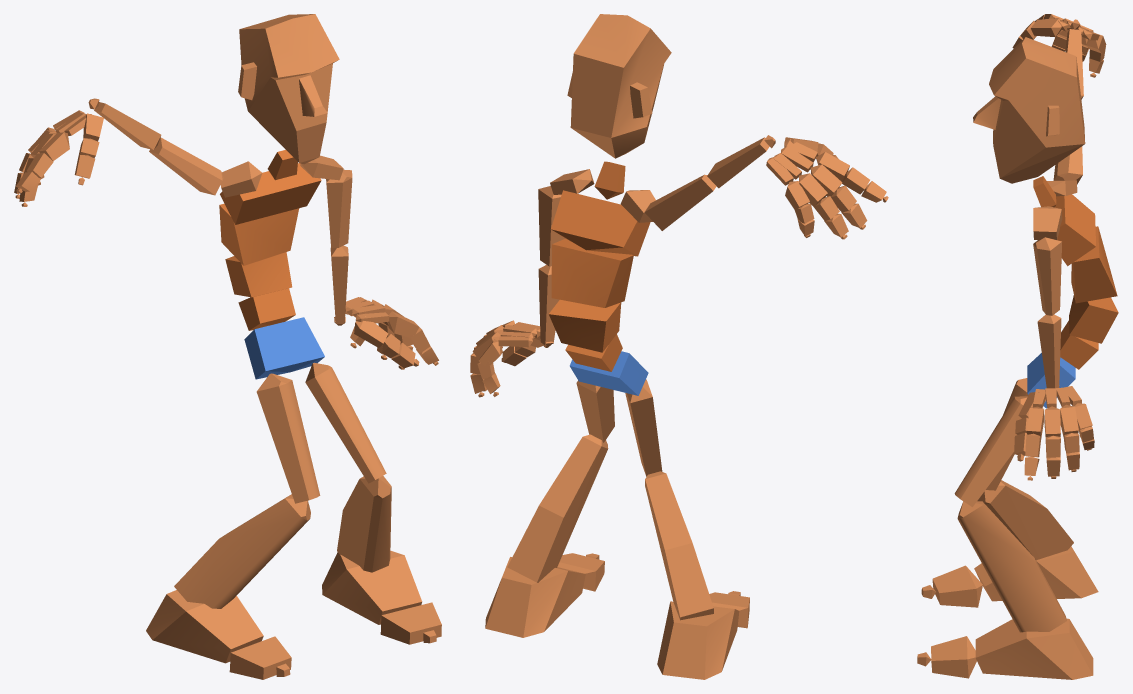
3 renders of one model, left to right at view 1: azimuth 30°, elevation 25°; view 2: azimuth 150°, elevation 25°; view 3: azimuth 270°, elevation 25°, orthographic. The views are drawn at different scales.
Parts seen in each view (by area): view 1: BOPED_Head, BOPED_R_leg, BOPED_R_foot, BOPED_R_foot01, BOPED_R_legup, BOPED_L_leg, Bone01, BOPED_L_legup, Bone04, Bone05, Bone03, BOPED_R_arm_upper (+9 smaller); view 2: BOPED_Head, BOPED_L_leg, BOPED_R_foot01, BOPED_R_leg, BOPED_R_foot, Bone04, Bone05, Bone03, BOPED_R_legup, Bone01, BOPED_R_arm_upper, BOPED_L_legup (+9 smaller); view 3: BOPED_Head, BOPED_L_leg, BOPED_R_foot01, BOPED_R_leg, BOPED_L_legup, BOPED_R_foot, Bone05, Bone04, BOPED_L_arm_upper, Bone03, BOPED_R_foot_toe01, BOPED_R_foot_toe04 (+16 smaller).
Part boxes in pixels (box(x1,y1,x2,y2)): BOPED_Head: box(238, 14, 339, 164); BOPED_R_leg: box(174, 494, 310, 608); BOPED_R_foot: box(146, 590, 263, 663); BOPED_R_foot01: box(322, 550, 422, 624); BOPED_R_legup: box(256, 373, 320, 503); BOPED_L_leg: box(337, 476, 391, 572); Bone01: box(244, 317, 324, 379); BOPED_L_legup: box(305, 362, 386, 483); Bone04: box(219, 203, 299, 265); Bone05: box(220, 163, 321, 224); Bone03: box(225, 252, 292, 297); BOPED_R_arm_upper: box(149, 137, 223, 195); BOPED_Head: box(567, 14, 671, 158); BOPED_L_leg: box(507, 434, 608, 582); BOPED_R_foot01: box(485, 557, 585, 637); BOPED_R_leg: box(645, 471, 713, 620); BOPED_R_foot: box(657, 601, 739, 679); Bone04: box(551, 239, 633, 307); Bone05: box(551, 190, 650, 256); Bone03: box(548, 299, 621, 352); BOPED_R_legup: box(625, 379, 662, 476); Bone01: box(569, 351, 648, 395); BOPED_R_arm_upper: box(644, 174, 716, 230); BOPED_L_legup: box(576, 380, 614, 442); BOPED_Head: box(973, 37, 1085, 183); BOPED_L_leg: box(957, 501, 1066, 632); BOPED_R_foot01: box(975, 618, 1093, 679); BOPED_R_leg: box(977, 480, 1073, 560); BOPED_L_legup: box(954, 396, 1027, 506); BOPED_R_foot: box(974, 546, 1098, 601); Bone05: box(1055, 194, 1095, 266); Bone04: box(1071, 226, 1117, 303); BOPED_L_arm_upper: box(1033, 237, 1061, 315); Bone03: box(1069, 295, 1118, 343); BOPED_R_foot_toe01: box(932, 565, 982, 607); BOPED_R_foot_toe04: box(931, 636, 976, 678).
Bounding box in the file's own units: 129 × 181 × 56.5.
